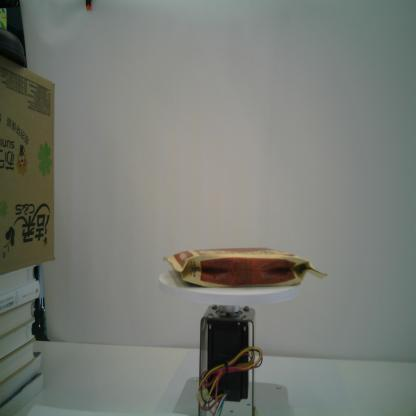Dried Food: (162, 246, 329, 292)
